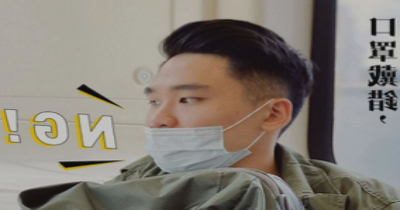mask_weared_incorrect: (142, 81, 252, 173)
